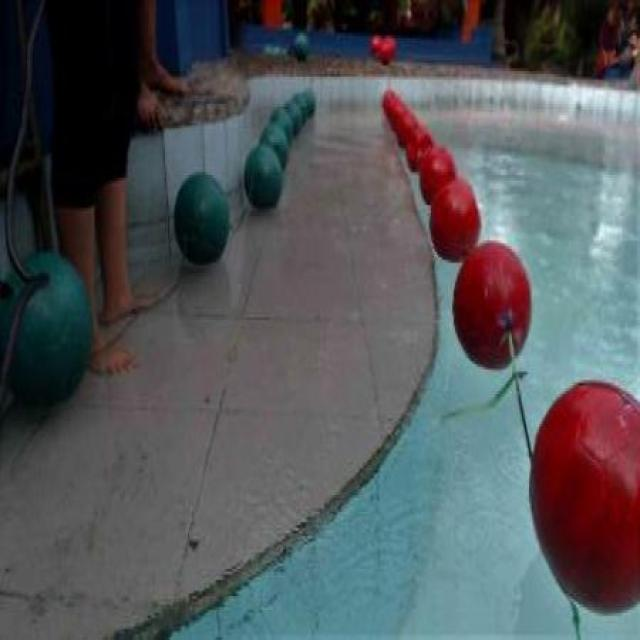buoy: (528, 377, 638, 613), (0, 250, 92, 406), (452, 238, 530, 369), (172, 172, 228, 266), (430, 178, 480, 266), (242, 144, 281, 212), (418, 144, 455, 206), (256, 121, 290, 175), (407, 126, 434, 170), (268, 106, 292, 146), (397, 111, 418, 146)
